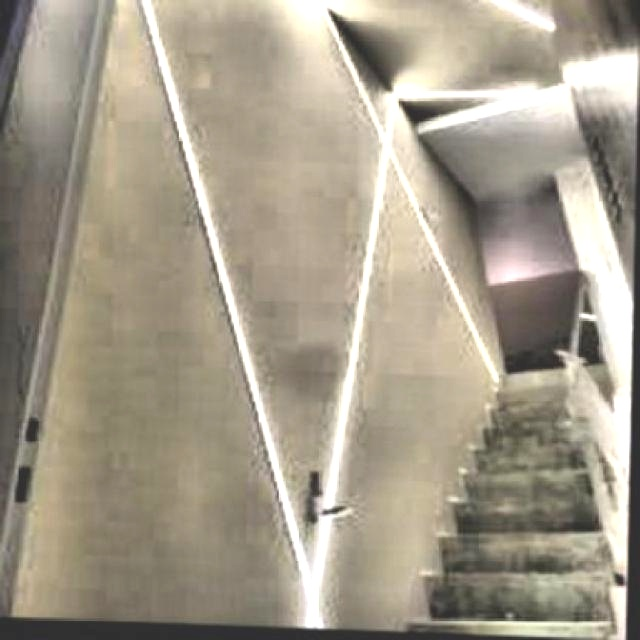stair: (369, 366, 634, 639)
